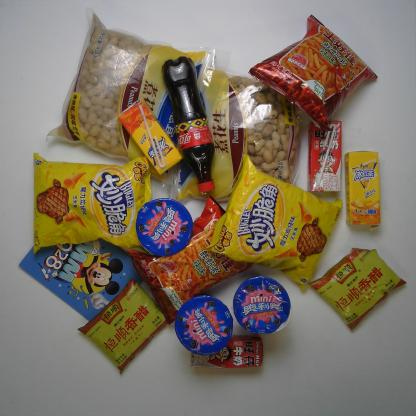Dessert: (173, 294, 234, 355), (136, 198, 197, 258), (234, 276, 294, 336)
Dried Food: (47, 10, 214, 184), (169, 66, 306, 200)
Drink: (161, 57, 215, 193), (119, 100, 183, 175), (344, 149, 382, 229)
Milk: (308, 119, 343, 196), (192, 338, 266, 369)
Puffed Food: (208, 154, 344, 294), (127, 195, 255, 324), (248, 15, 379, 126), (30, 154, 154, 253)
Seasoner: (74, 279, 171, 374), (308, 244, 408, 333)
Stationery: (19, 237, 142, 323)
